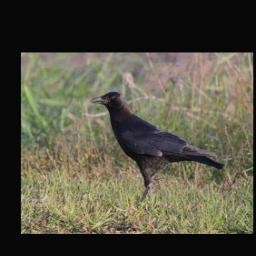Crow: (89, 90, 226, 206)
